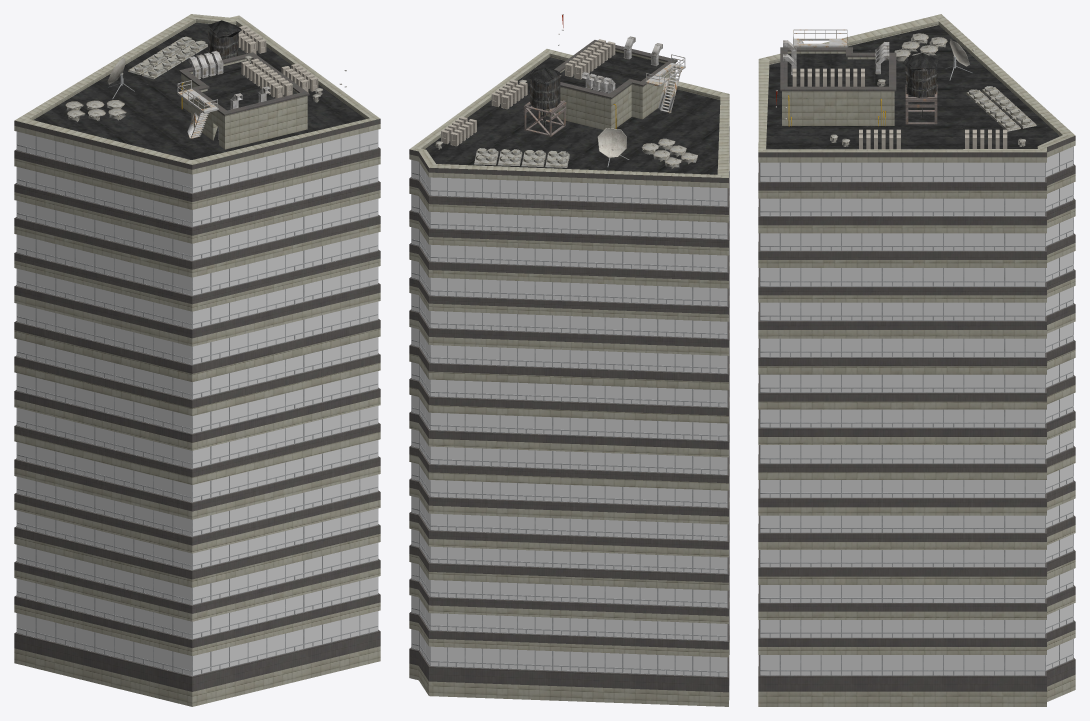
Rendered from KB3D_NEC_BldgLG_A_Main.glb.
3 renders of one model, left to right at view 1: azimuth 30°, elevation 25°; view 2: azimuth 150°, elevation 25°; view 3: azimuth 270°, elevation 25°, orthographic. The views are drawn at different scales.
Visible parts, largest first — view 1: KB3D_NEC_BldgLG_A_Main; view 2: KB3D_NEC_BldgLG_A_Main; view 3: KB3D_NEC_BldgLG_A_Main.
Part boxes in pixels (<box>): KB3D_NEC_BldgLG_A_Main: <box>14,14,380,706</box>; KB3D_NEC_BldgLG_A_Main: <box>409,14,729,706</box>; KB3D_NEC_BldgLG_A_Main: <box>758,14,1075,706</box>.
Bounding box in the file's own units: 29.86 × 62.02 × 28.99.
13 materials, 12 textured.
